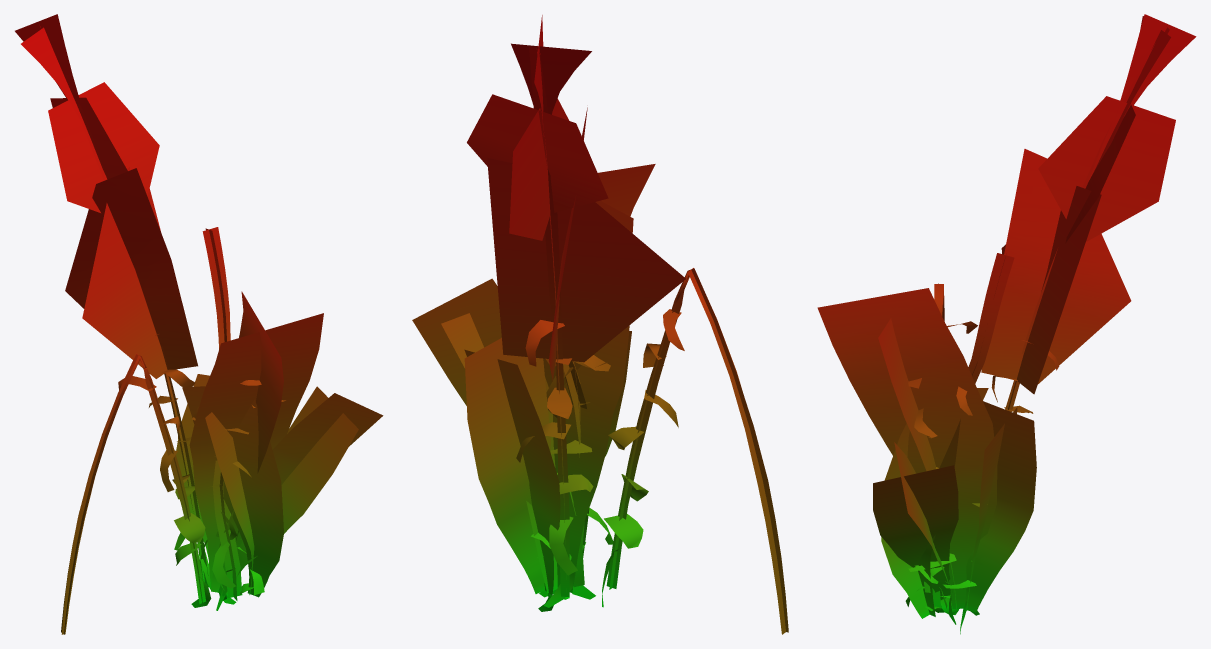
Rendered from Willowherb_LOD0_Var3_tbfpbbhr.fbx.
3 views of the same model, side by side, from view 1: azimuth 30°, elevation 25°; view 2: azimuth 150°, elevation 25°; view 3: azimuth 270°, elevation 25° (orthographic). The views are drawn at different scales.
Visible parts, largest first — view 1: _cc74_Var3_LOD0; view 2: _cc74_Var3_LOD0; view 3: _cc74_Var3_LOD0.
Part boxes in pixels (x1,y1,x2,y2): _cc74_Var3_LOD0: (15, 14, 383, 634); _cc74_Var3_LOD0: (412, 15, 788, 634); _cc74_Var3_LOD0: (817, 14, 1196, 634).
Bounding box in the file's own units: 10.64 × 18.17 × 10.84.
